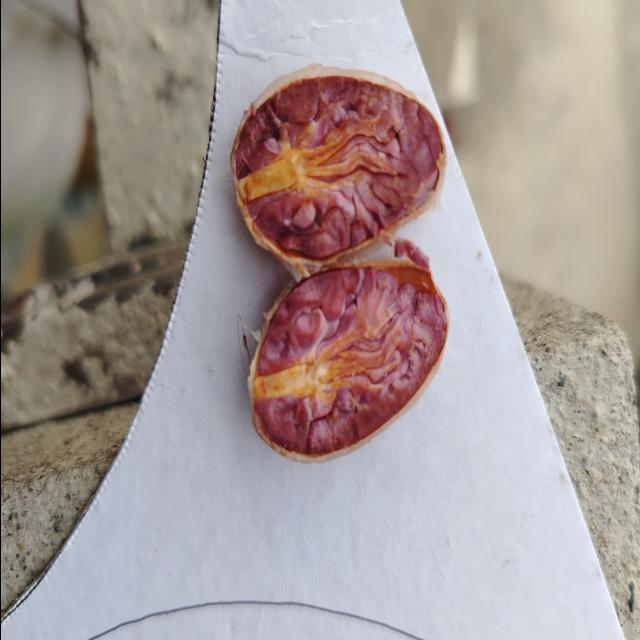Forastero: (234, 78, 448, 259), (249, 269, 443, 458)
